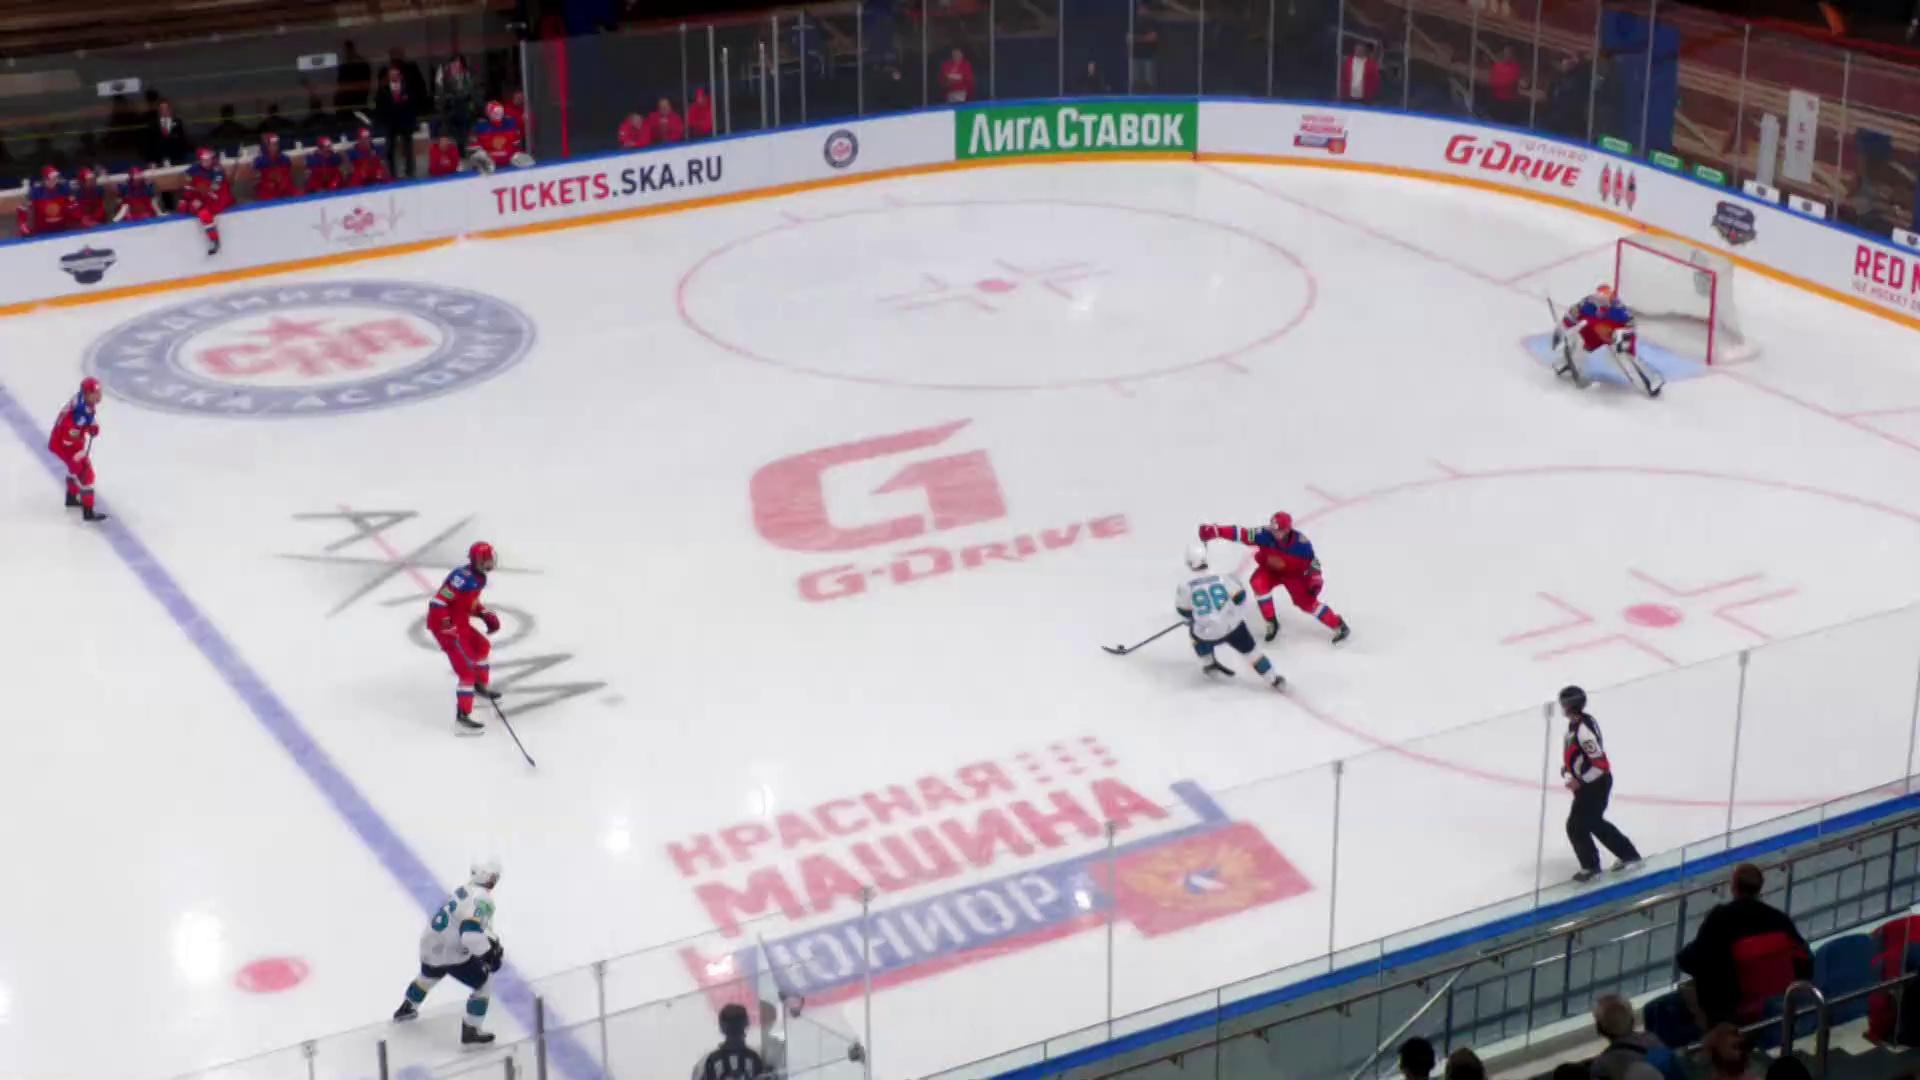ball: (1117, 645, 1126, 651)
